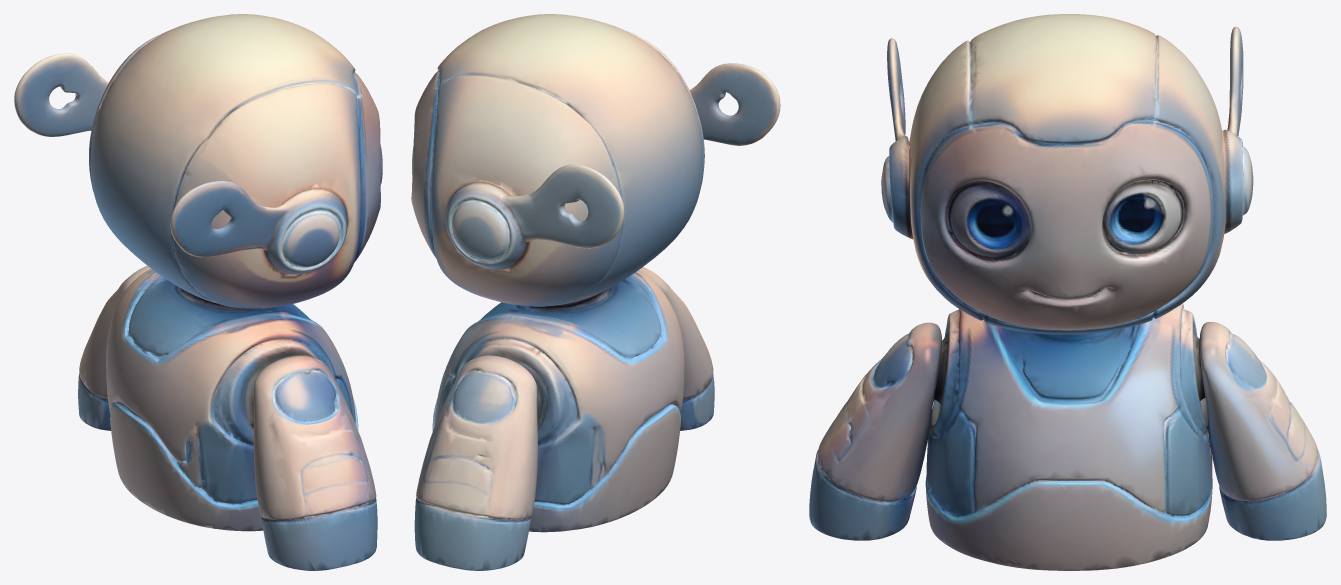
Rendered from interview_robot_vertex-v2-uncompressed.glb.
3 renders of one model, left to right at view 1: azimuth 30°, elevation 25°; view 2: azimuth 150°, elevation 25°; view 3: azimuth 270°, elevation 25°, orthographic. The views are drawn at different scales.
Parts seen in each view (by area): view 1: g_meshes0; view 2: g_meshes0; view 3: g_meshes0.
Part boxes in pixels (x1,y1,x2,y2): g_meshes0: (14,14,382,570); g_meshes0: (411,14,780,570); g_meshes0: (809,14,1326,570).
Size of the model in its own units: 0.6331 by 0.9999 by 0.9573.
1 material, 1 textured.
